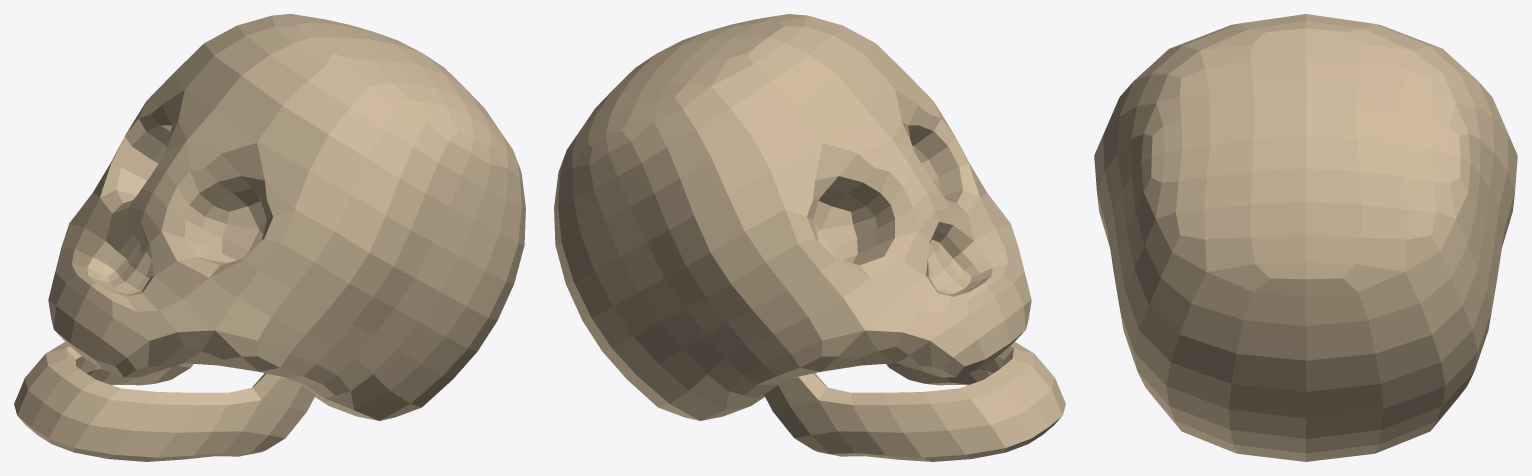
The model's file is Skull.glb.
3 renders of one model, left to right at view 1: azimuth 30°, elevation 25°; view 2: azimuth 150°, elevation 25°; view 3: azimuth 270°, elevation 25°, orthographic. The views are drawn at different scales.
Parts seen in each view (by area): view 1: Skull; view 2: Skull; view 3: Skull.
Boxes of the visible parts, x1,y1,x2,y2 form: Skull: [14, 14, 525, 461]; Skull: [554, 14, 1065, 461]; Skull: [1094, 14, 1517, 461].
Size of the model in its own units: 0.6006 by 0.461 by 0.4383.
